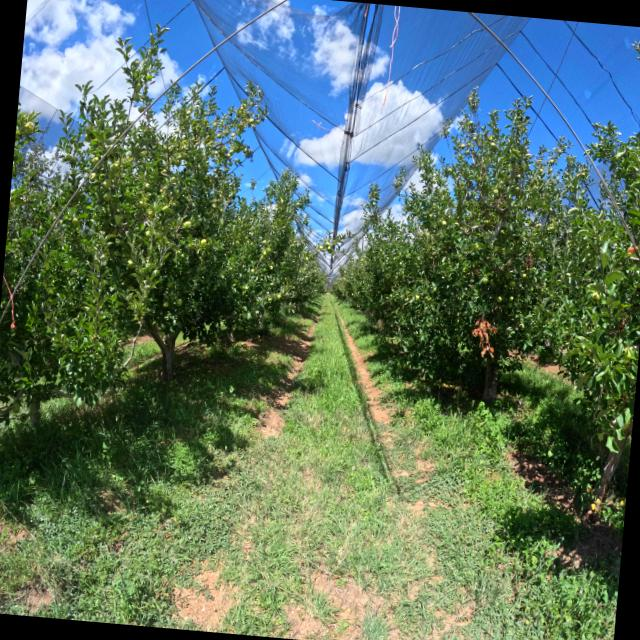-FireBlight-: (470, 316, 497, 358), (604, 315, 629, 337), (523, 249, 534, 269)
